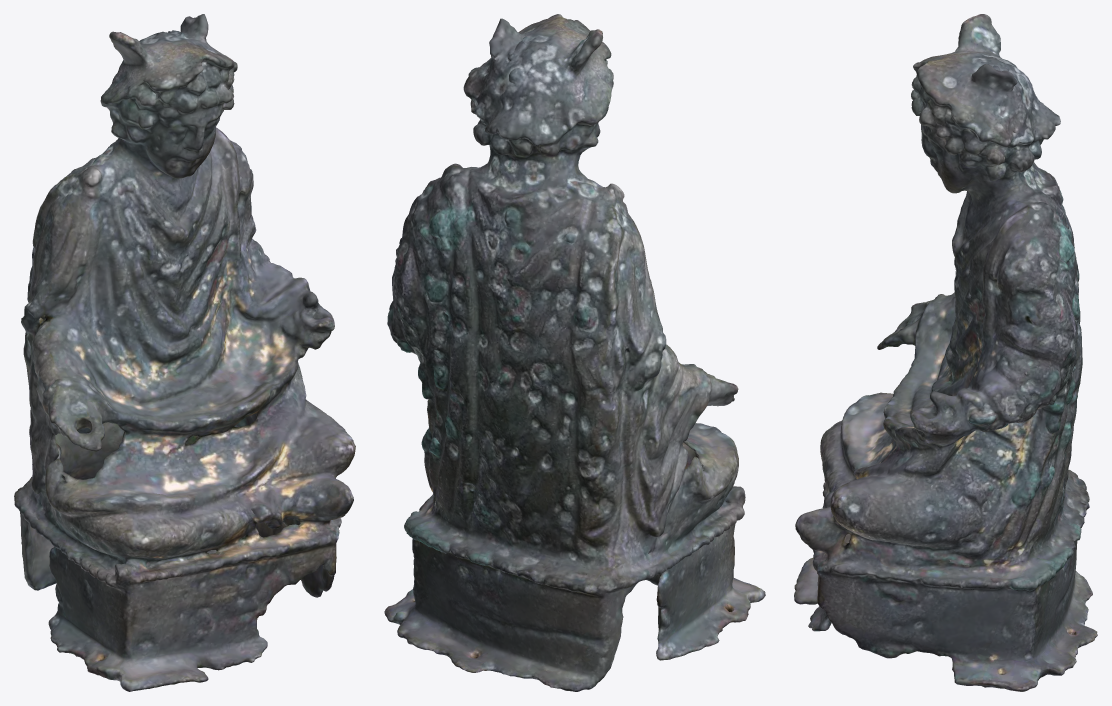
The model's file is preview.glb.
The picture shows the model from 3 angles, left to right: view 1: azimuth 30°, elevation 25°; view 2: azimuth 150°, elevation 25°; view 3: azimuth 270°, elevation 25°; orthographic projection. The views are drawn at different scales.
Visible parts, largest first — view 1: Object_2; view 2: Object_2; view 3: Object_2.
Boxes of the visible parts, x1,y1,x2,y2 form: Object_2: [14, 14, 355, 691]; Object_2: [384, 14, 765, 691]; Object_2: [794, 14, 1097, 691].
Bounding box in the file's own units: 0.2212 × 0.4219 × 0.1965.
Materials: 1 (1 with a texture image).
